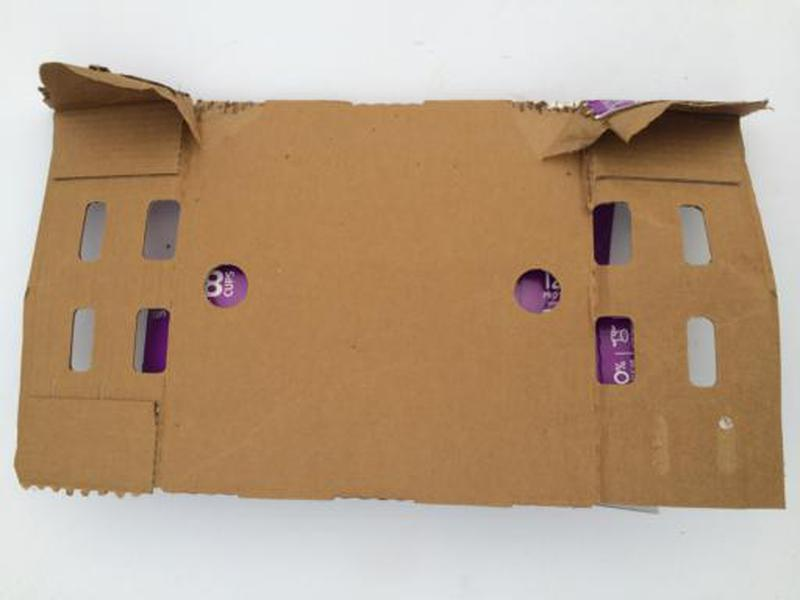cardboard: (11, 55, 790, 514)
